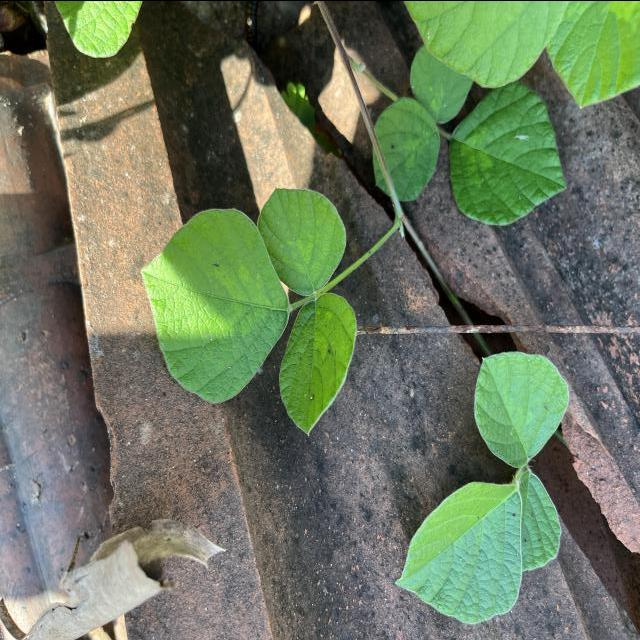Pseudarthria viscida: (139, 182, 360, 438), (396, 347, 574, 627), (370, 44, 570, 228)
